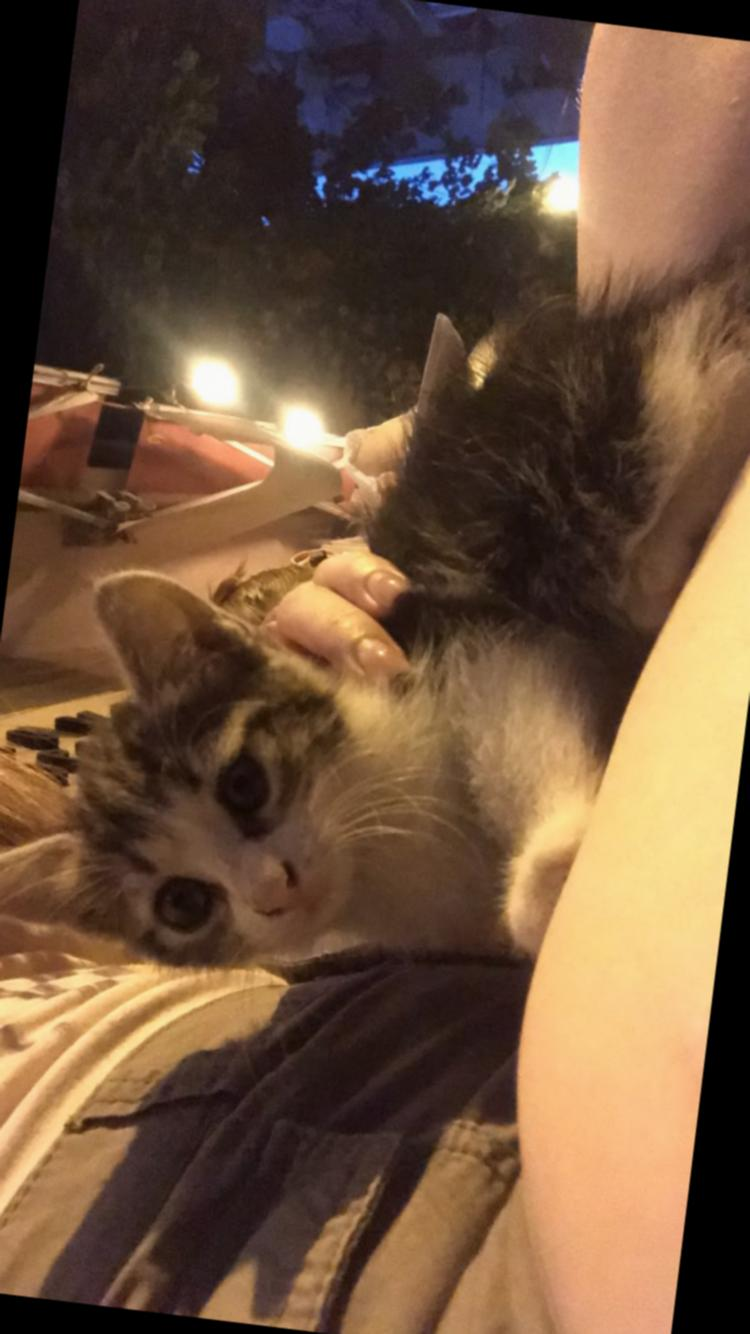macka: (0, 112, 750, 1031)
